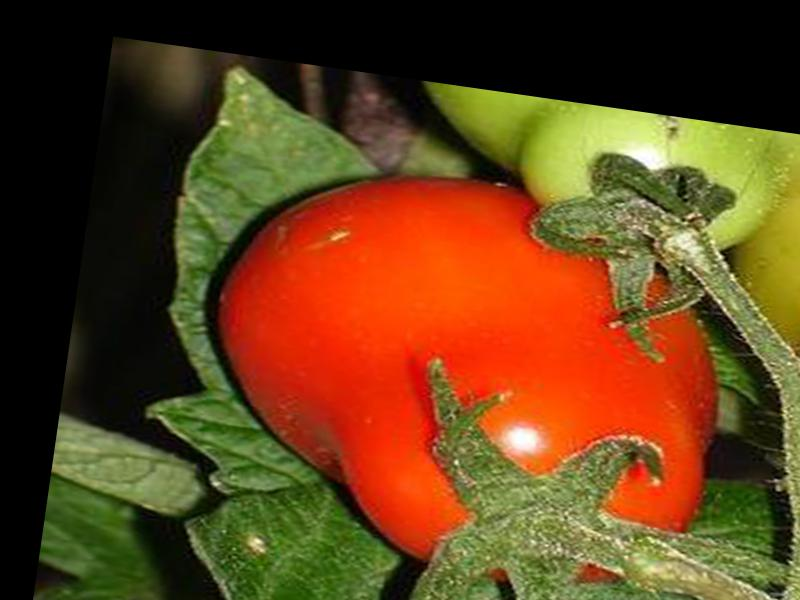Tomato: (184, 148, 739, 600)
